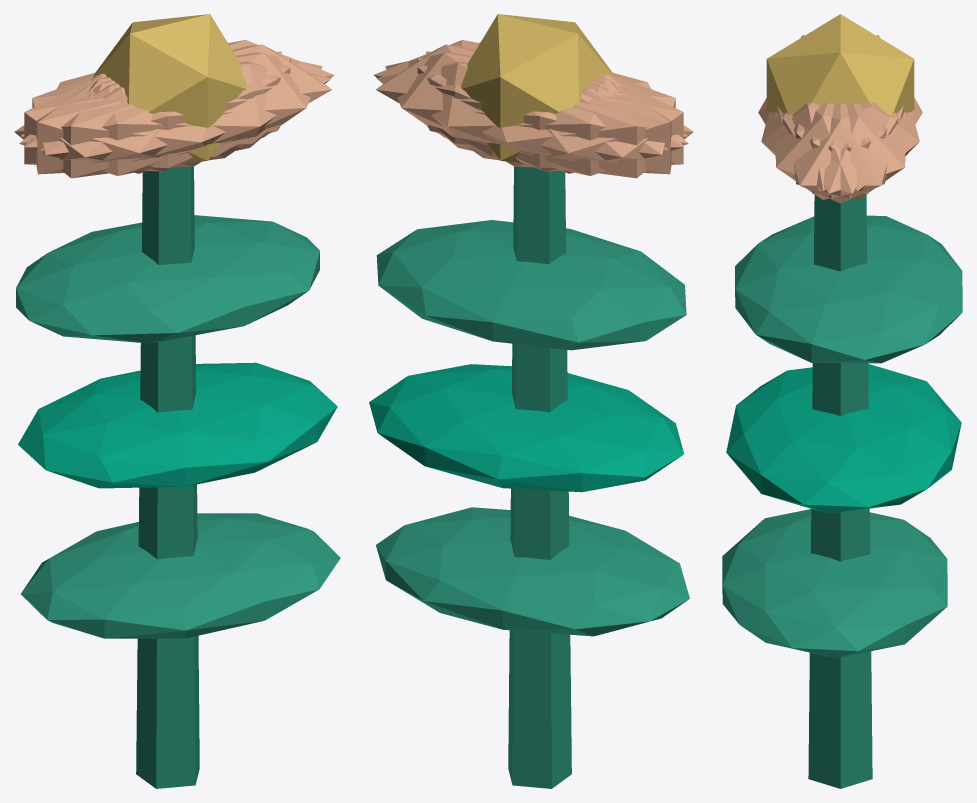
Rendered from hoya-carnosa.glb.
The picture shows the model from 3 angles, left to right: view 1: azimuth 30°, elevation 25°; view 2: azimuth 150°, elevation 25°; view 3: azimuth 270°, elevation 25°; orthographic projection.
Parts seen in each view (by area): view 1: leaf1, leaf0, leaf2, stem, center, petal1, petal6, petal2, petal5, petal7, petal0, petal4 (+2 smaller); view 2: leaf2, leaf1, leaf0, stem, center, petal8, petal3, petal7, petal4, petal2, petal0, petal5 (+2 smaller); view 3: leaf1, leaf2, leaf0, stem, center, petal0, petal5, petal4, petal8, petal1.
Part boxes in pixels (x1,y1,x2,y2): leaf1: (18, 362, 337, 488); leaf0: (21, 513, 340, 638); leaf2: (16, 215, 319, 343); stem: (136, 166, 199, 788); center: (93, 14, 246, 163); petal1: (19, 61, 331, 175); petal6: (14, 75, 240, 178); petal2: (36, 51, 281, 174); petal5: (40, 52, 322, 168); petal7: (24, 58, 290, 171); petal0: (92, 44, 331, 157); petal4: (20, 40, 333, 147); leaf2: (376, 220, 686, 350); leaf1: (369, 364, 683, 492); leaf0: (376, 507, 689, 636); stem: (508, 166, 571, 788); center: (461, 14, 614, 163); petal8: (376, 61, 688, 175); petal3: (467, 75, 693, 178); petal7: (426, 51, 671, 174); petal4: (385, 52, 667, 168); petal2: (417, 58, 683, 171); petal0: (376, 44, 615, 157); petal5: (374, 40, 687, 147); leaf1: (726, 364, 961, 513); leaf2: (735, 215, 962, 363); leaf0: (722, 509, 947, 658); stem: (808, 194, 872, 788); center: (766, 14, 914, 114); petal0: (777, 103, 903, 203); petal5: (775, 103, 898, 199); petal4: (783, 103, 905, 199); petal8: (794, 102, 919, 190); petal1: (761, 102, 886, 190).
Size of the model in its own units: 0.1452 by 0.3396 by 0.0998.
